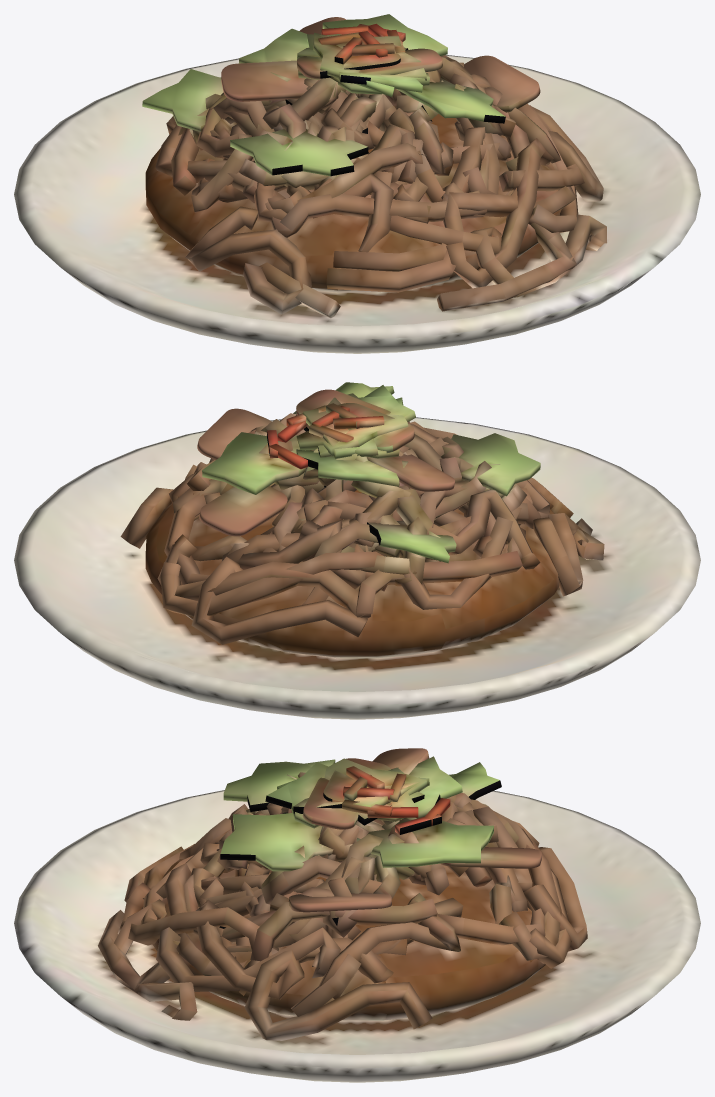
File: yakisoba.glb
3 views of the same model, one above another, from view 1: azimuth 30°, elevation 25°; view 2: azimuth 150°, elevation 25°; view 3: azimuth 270°, elevation 25° (orthographic).
Visible parts, largest first — view 1: prop_yakisoba_felt; view 2: prop_yakisoba_felt; view 3: prop_yakisoba_felt.
Boxes of the visible parts, x1,y1,x2,y2 form: prop_yakisoba_felt: (14, 14, 700, 353); prop_yakisoba_felt: (14, 382, 700, 719); prop_yakisoba_felt: (14, 748, 700, 1082).
Size of the model in its own units: 0.306 by 0.0983 by 0.306.
1 material, 1 textured.
